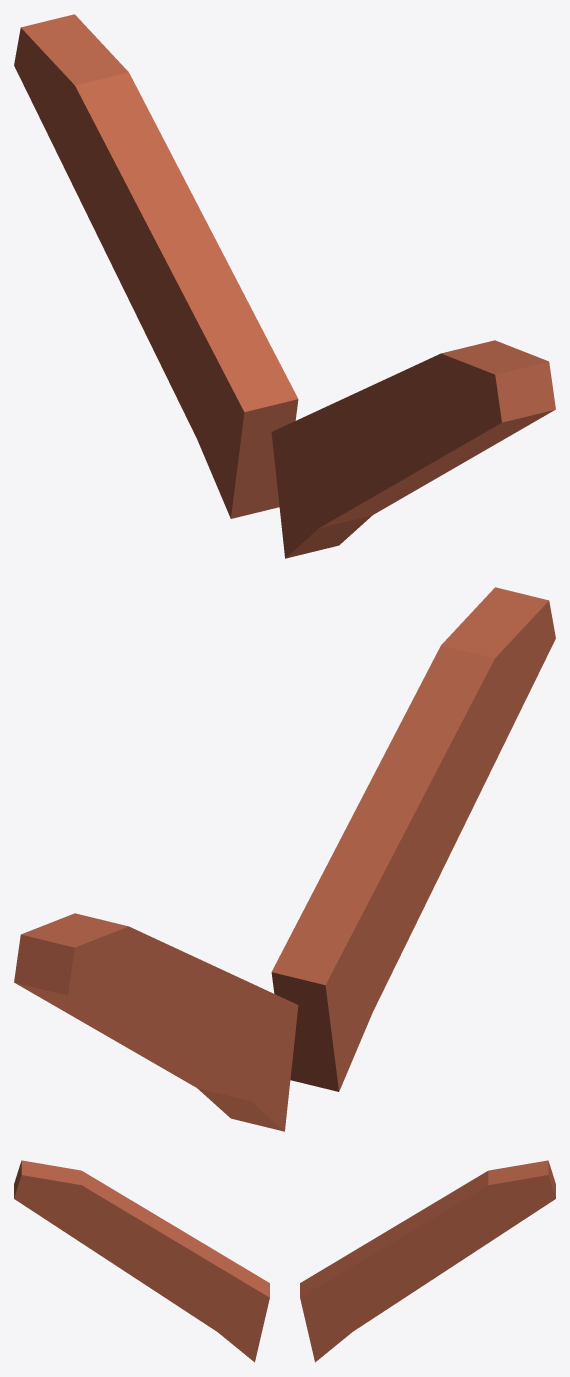
File: REVIEW_TrackRailToSpineWeb.glb
The picture shows the model from 3 angles, top to bottom: view 1: azimuth 30°, elevation 25°; view 2: azimuth 150°, elevation 25°; view 3: azimuth 270°, elevation 25°; orthographic projection. The views are drawn at different scales.
Visible parts, largest first — view 1: VC_ENVKIT_Review_WebPlate.001, VC_ENVKIT_Review_WebPlate; view 2: VC_ENVKIT_Review_WebPlate, VC_ENVKIT_Review_WebPlate.001; view 3: VC_ENVKIT_Review_WebPlate, VC_ENVKIT_Review_WebPlate.001.
Boxes of the visible parts, bbox=[...] form: VC_ENVKIT_Review_WebPlate.001: bbox=[14, 14, 298, 518]; VC_ENVKIT_Review_WebPlate: bbox=[271, 340, 555, 558]; VC_ENVKIT_Review_WebPlate: bbox=[271, 587, 555, 1091]; VC_ENVKIT_Review_WebPlate.001: bbox=[14, 913, 298, 1131]; VC_ENVKIT_Review_WebPlate: bbox=[14, 1160, 269, 1362]; VC_ENVKIT_Review_WebPlate.001: bbox=[300, 1160, 555, 1362].
Bounding box in the file's own units: 0.092 × 0.55 × 1.44.
